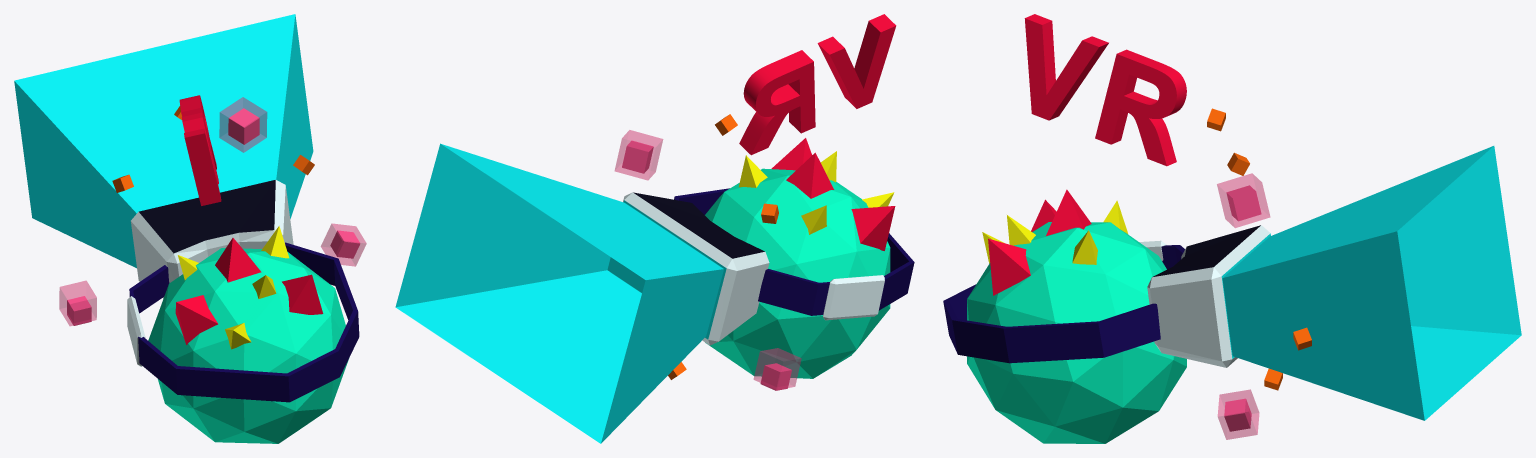
File: planet_vr.obj
The picture shows the model from 3 angles, left to right: view 1: azimuth 30°, elevation 25°; view 2: azimuth 150°, elevation 25°; view 3: azimuth 270°, elevation 25°; orthographic projection. The views are drawn at different scales.
Visible parts, largest first — view 1: pCube19_Mesh.031, pPlatonic20_Mesh.043, pCube13_Mesh.038, pCube12_Mesh.044, typeMesh1_Mesh.045, pCube15_Mesh.039, pCube18_Mesh.028, pCube24_Mesh.025, pPyramid1_Mesh.041, pPyramid3_Mesh.034, pPyramid2_Mesh.035, pCube16_Mesh.030 (+6 smaller); view 2: pCube19_Mesh.031, pPlatonic20_Mesh.043, typeMesh1_Mesh.045, pCube12_Mesh.044, pCube13_Mesh.038, pCube14_Mesh.040, pCube15_Mesh.039, pCube18_Mesh.028, pPyramid1_Mesh.041, pPyramid2_Mesh.035, pCube16_Mesh.030, pCube17_Mesh.029 (+2 smaller); view 3: pCube19_Mesh.031, pPlatonic20_Mesh.043, typeMesh1_Mesh.045, pCube12_Mesh.044, pCube13_Mesh.038, pCube15_Mesh.039, pCube24_Mesh.025, pPyramid3_Mesh.034, pPyramid2_Mesh.035, pCube16_Mesh.030, pCube25_Mesh.042, pPyramid6_Mesh.036.
Part boxes in pixels (x1=…): pCube19_Mesh.031: x1=14, y1=14, x2=313, y2=268; pPlatonic20_Mesh.043: x1=148, y1=248, x2=349, y2=443; pCube13_Mesh.038: x1=129, y1=242, x2=359, y2=402; pCube12_Mesh.044: x1=130, y1=179, x2=293, y2=298; typeMesh1_Mesh.045: x1=179, y1=95, x2=221, y2=205; pCube15_Mesh.039: x1=219, y1=97, x2=267, y2=152; pCube18_Mesh.028: x1=59, y1=280, x2=96, y2=326; pCube24_Mesh.025: x1=321, y1=223, x2=366, y2=266; pPyramid1_Mesh.041: x1=175, y1=295, x2=217, y2=344; pPyramid3_Mesh.034: x1=282, y1=274, x2=323, y2=314; pPyramid2_Mesh.035: x1=215, y1=238, x2=261, y2=282; pCube16_Mesh.030: x1=228, y1=108, x2=259, y2=144; pCube19_Mesh.031: x1=395, y1=143, x2=723, y2=443; pPlatonic20_Mesh.043: x1=705, y1=168, x2=890, y2=378; typeMesh1_Mesh.045: x1=739, y1=14, x2=896, y2=155; pCube12_Mesh.044: x1=607, y1=192, x2=769, y2=345; pCube13_Mesh.038: x1=674, y1=188, x2=914, y2=315; pCube14_Mesh.040: x1=823, y1=275, x2=884, y2=320; pCube15_Mesh.039: x1=614, y1=130, x2=663, y2=180; pCube18_Mesh.028: x1=753, y1=348, x2=801, y2=389; pPyramid1_Mesh.041: x1=851, y1=206, x2=895, y2=250; pPyramid2_Mesh.035: x1=786, y1=152, x2=834, y2=198; pCube16_Mesh.030: x1=622, y1=140, x2=653, y2=173; pCube17_Mesh.029: x1=760, y1=363, x2=791, y2=390; pCube19_Mesh.031: x1=1222, y1=146, x2=1521, y2=420; pPlatonic20_Mesh.043: x1=967, y1=222, x2=1186, y2=443; typeMesh1_Mesh.045: x1=1024, y1=14, x2=1186, y2=166; pCube12_Mesh.044: x1=1147, y1=225, x2=1270, y2=367; pCube13_Mesh.038: x1=943, y1=245, x2=1184, y2=363; pCube15_Mesh.039: x1=1217, y1=173, x2=1270, y2=227; pCube24_Mesh.025: x1=1217, y1=389, x2=1259, y2=439; pPyramid3_Mesh.034: x1=988, y1=238, x2=1030, y2=295; pPyramid2_Mesh.035: x1=1046, y1=189, x2=1091, y2=235; pCube16_Mesh.030: x1=1226, y1=185, x2=1261, y2=221; pCube25_Mesh.042: x1=1224, y1=398, x2=1251, y2=431; pPyramid6_Mesh.036: x1=1072, y1=230, x2=1097, y2=264.
Bounding box in the file's own units: 0.4442 × 0.4497 × 0.6172.
